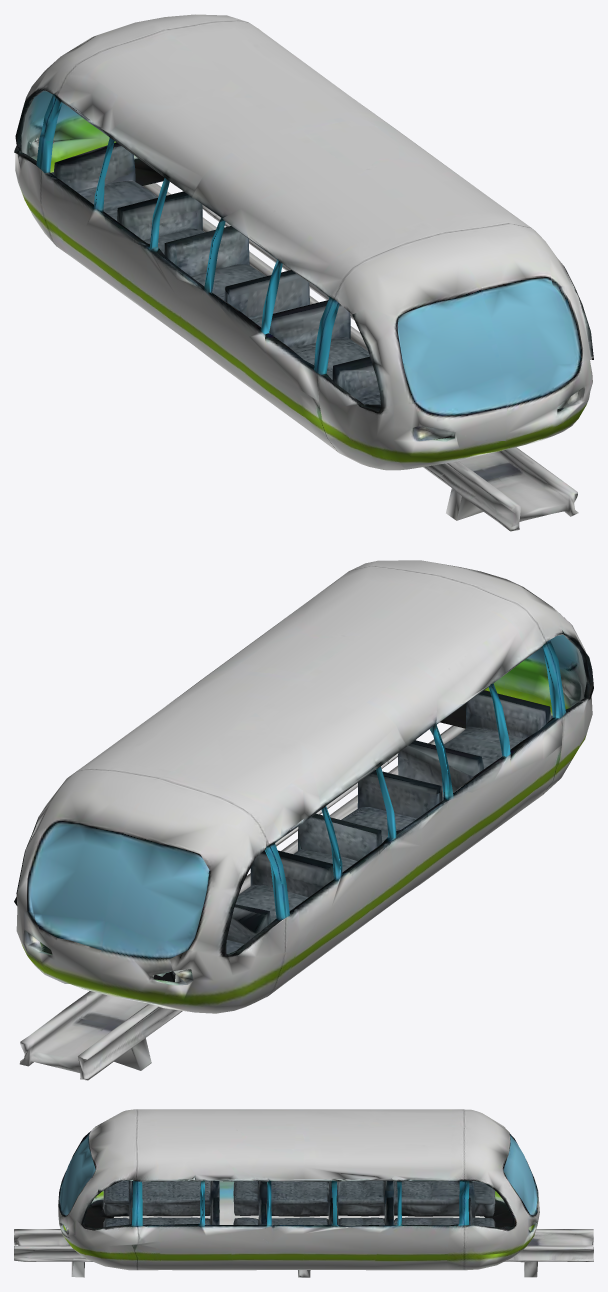
The model's file is tren.glb.
3 renders of one model, top to bottom at view 1: azimuth 30°, elevation 25°; view 2: azimuth 150°, elevation 25°; view 3: azimuth 270°, elevation 25°, orthographic. The views are drawn at different scales.
Parts seen in each view (by area): view 1: tripo_node_4c844f3d-b449-472f-a72e-e106b09e427a; view 2: tripo_node_4c844f3d-b449-472f-a72e-e106b09e427a; view 3: tripo_node_4c844f3d-b449-472f-a72e-e106b09e427a.
Part boxes in pixels (box(x1,y1,x2,y2)): tripo_node_4c844f3d-b449-472f-a72e-e106b09e427a: box(14, 14, 593, 531); tripo_node_4c844f3d-b449-472f-a72e-e106b09e427a: box(14, 560, 593, 1080); tripo_node_4c844f3d-b449-472f-a72e-e106b09e427a: box(14, 1109, 593, 1277).
Bounding box in the file's own units: 0.2884 × 0.2666 × 1.
1 material, 1 textured.
